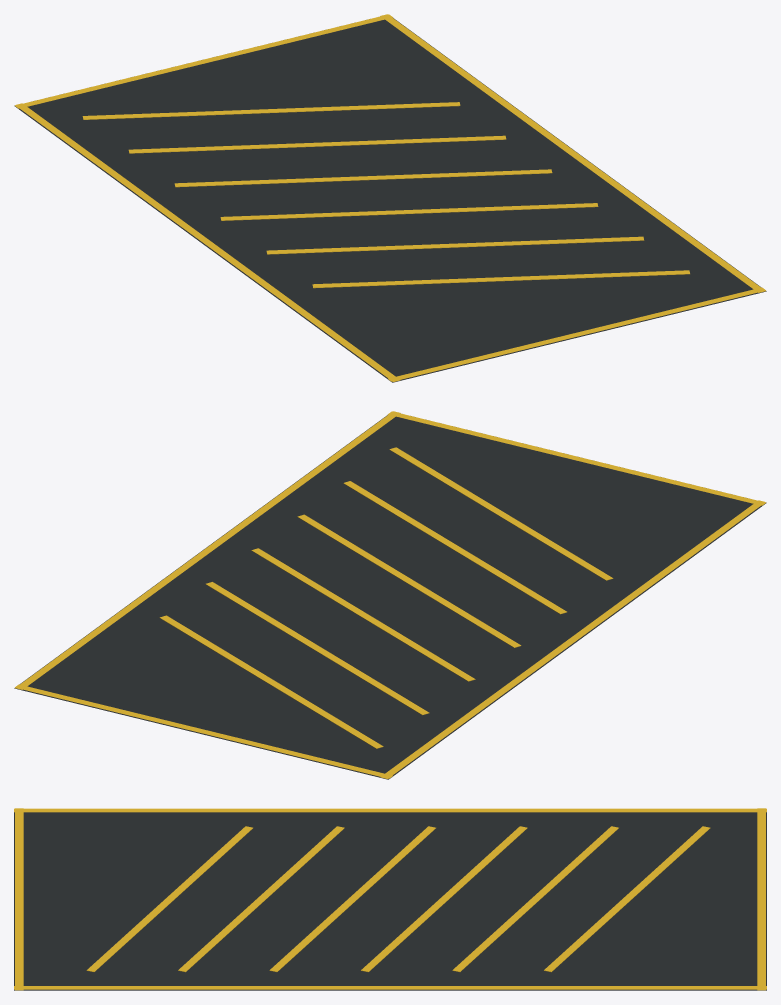
Rendered from PickupStopZone.obj.
3 views of the same model, one above another, from view 1: azimuth 30°, elevation 25°; view 2: azimuth 150°, elevation 25°; view 3: azimuth 270°, elevation 25° (orthographic).
Parts seen in each view (by area): view 1: PickupStopZone; view 2: PickupStopZone; view 3: PickupStopZone.
Part boxes in pixels (x1=…): PickupStopZone: x1=14, y1=14, x2=766, y2=382; PickupStopZone: x1=14, y1=411, x2=766, y2=779; PickupStopZone: x1=14, y1=808, x2=766, y2=990.
Size of the model in its own units: 4 by 0.007 by 7.
